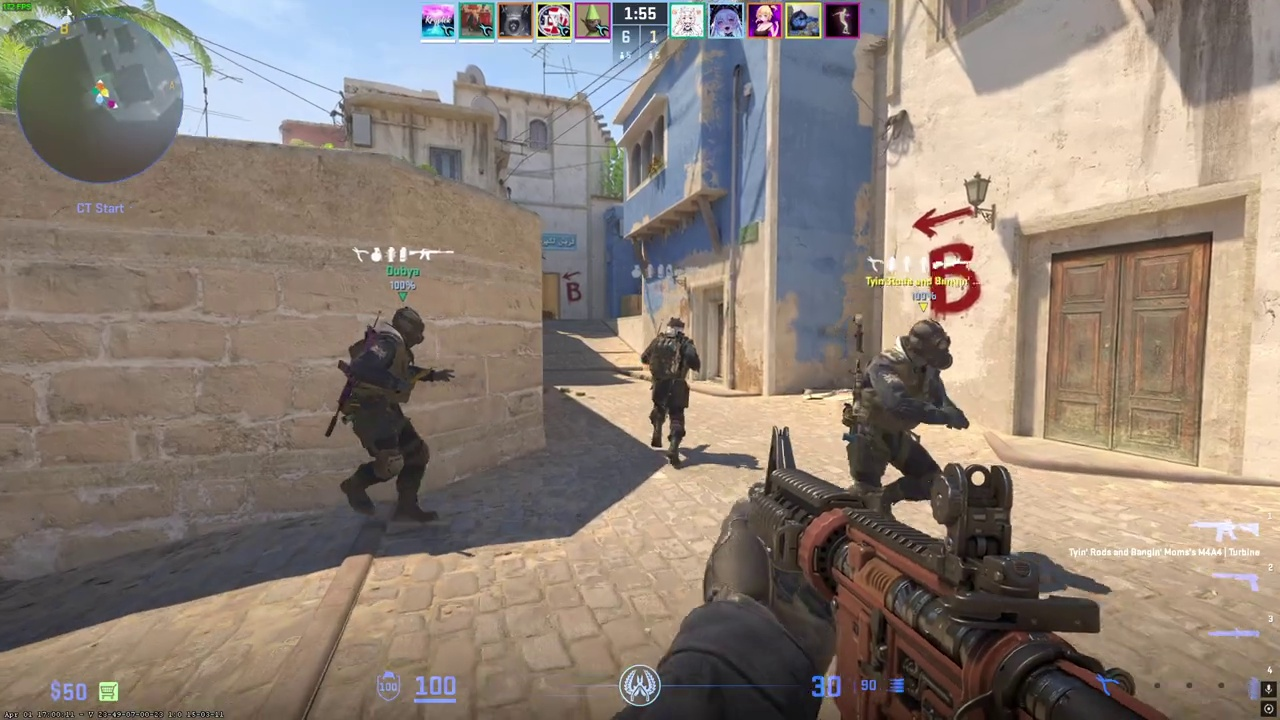CT: (845, 318, 958, 521), (340, 307, 439, 523), (645, 317, 695, 466)
